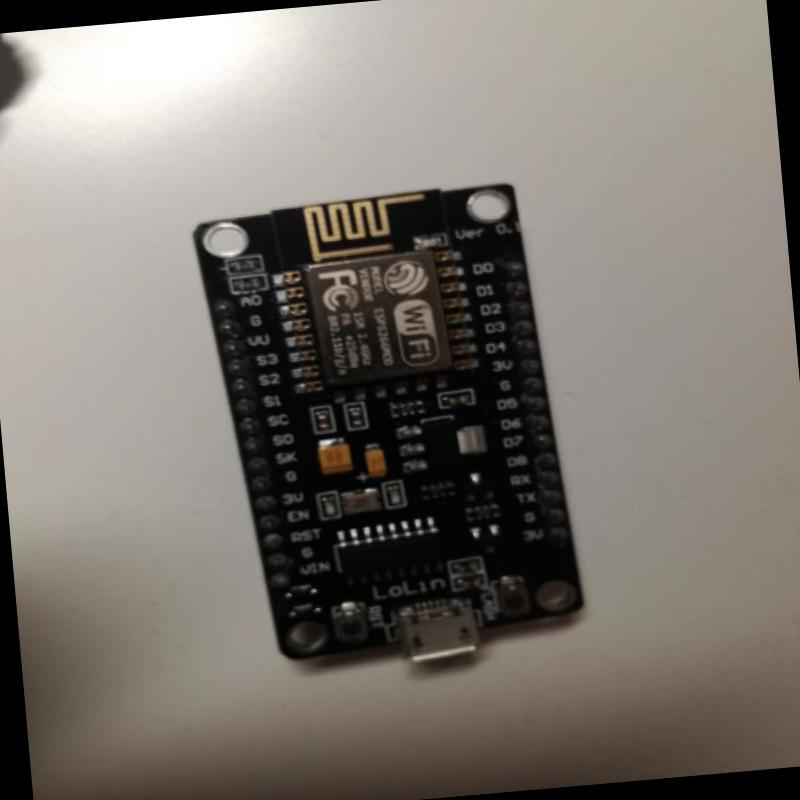ESP8266: (182, 170, 606, 687)
